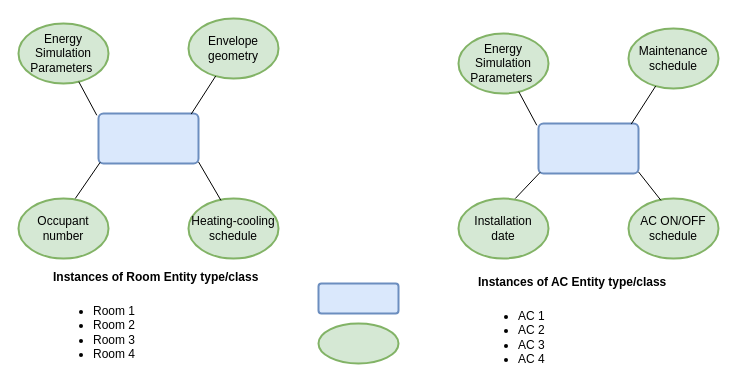
The diagram is 736 pixels wide and 390 high, and some of its shapes have lost their labels. Each missing label, with the centre of its shape:
"AC" belongs at (x=588, y=148).
"Attribute" belongs at (x=358, y=343).
"Entity" belongs at (x=358, y=298).
"Room" belongs at (x=148, y=138).
